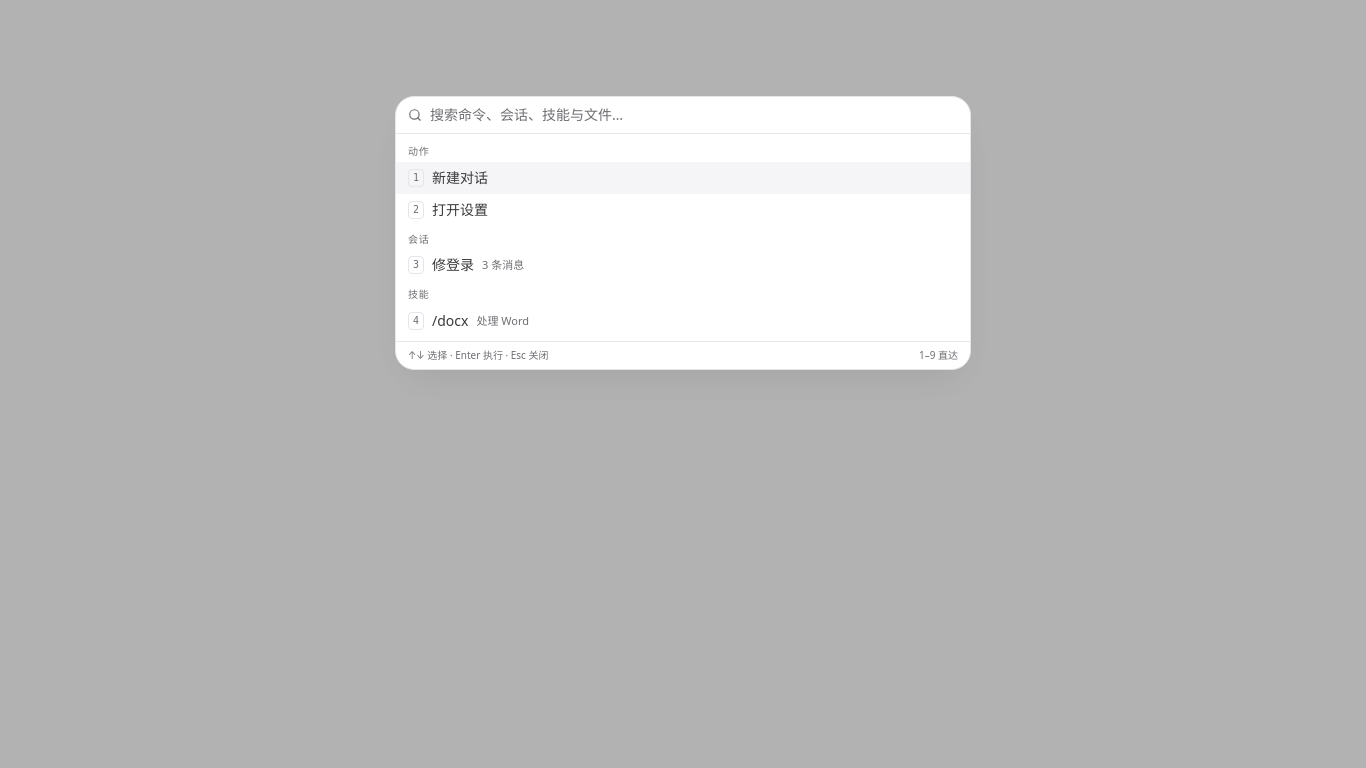
CommandPalette › 输入查询后过滤结果并去掉数字键提示
Type "docx" into the field labelled "搜索命令、会话、技能与文件". click: point(694, 115)
box: top-left (430, 105), bottom-right (958, 125)
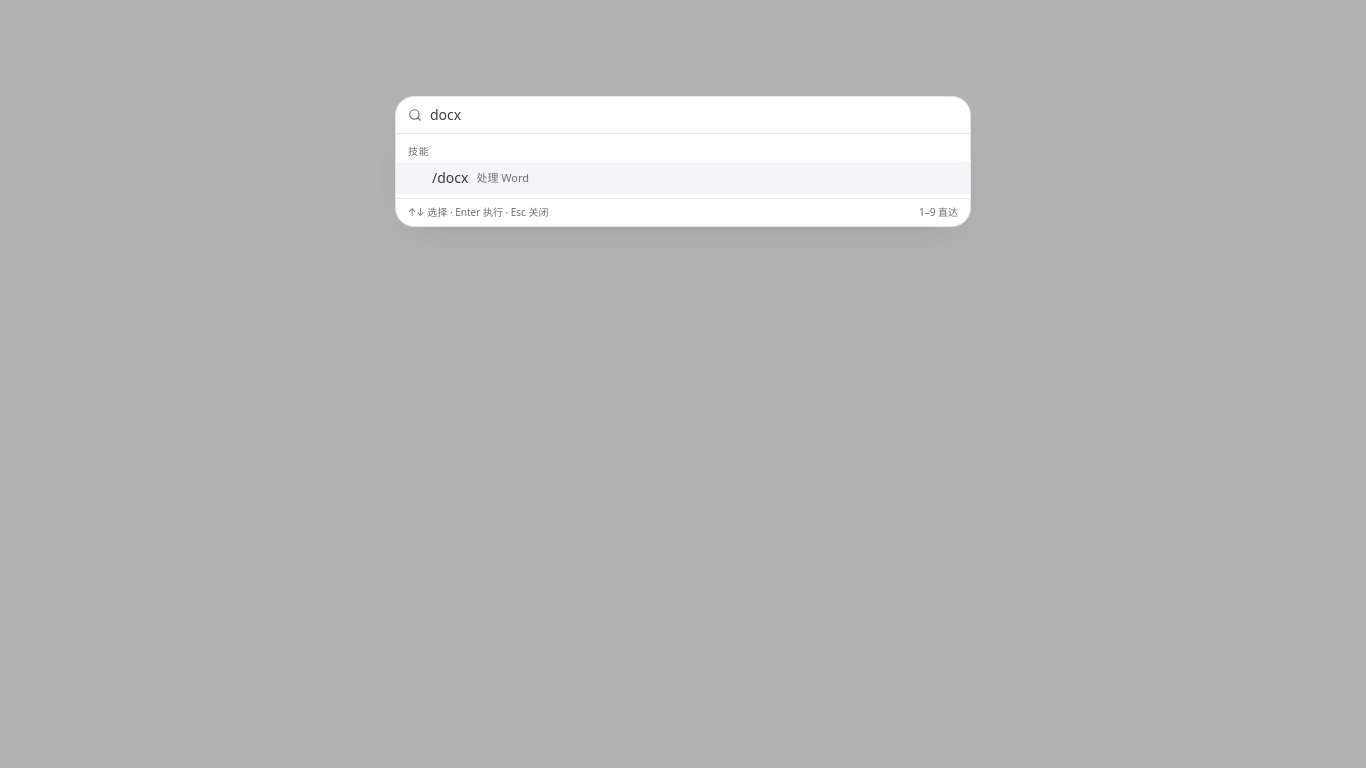
Expected: the text "/docx" is shown, top-left (432, 168), bottom-right (468, 188)
Now the button "新建对话" is gone
